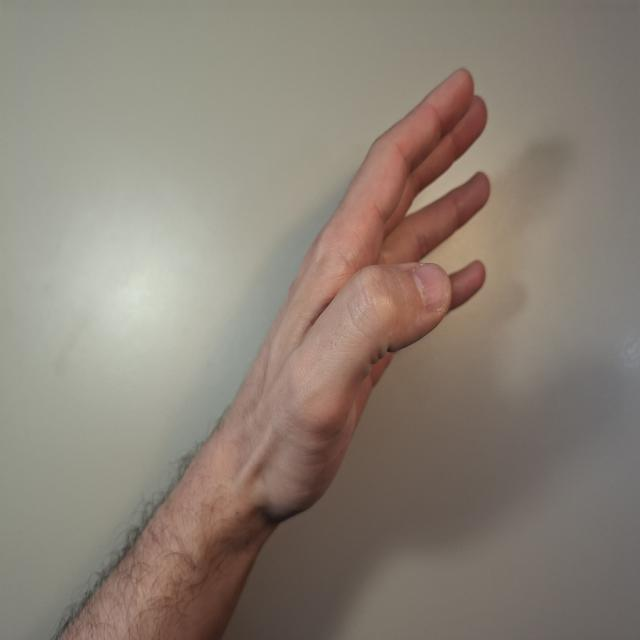glove_off: (208, 66, 490, 527)
